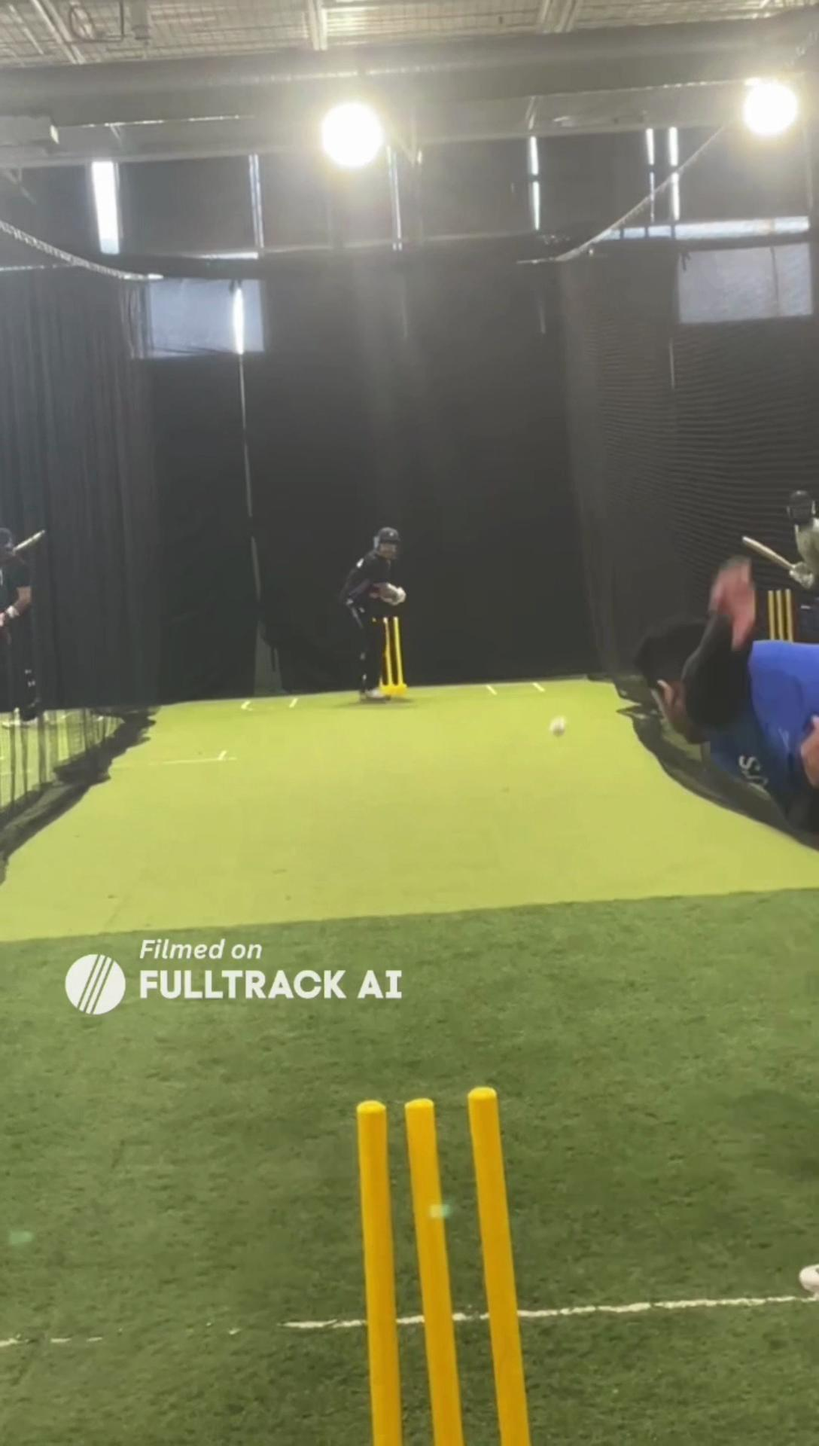ball: (546, 715, 572, 741)
